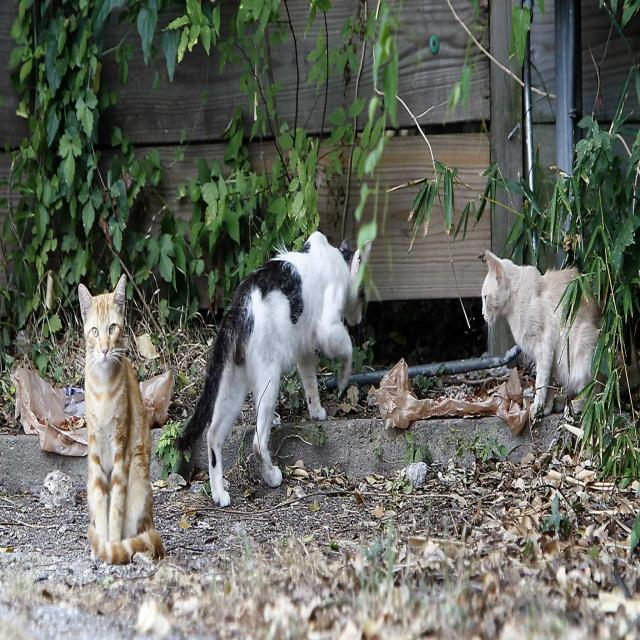cat: (178, 231, 364, 507), (79, 275, 165, 565), (481, 251, 600, 415)
